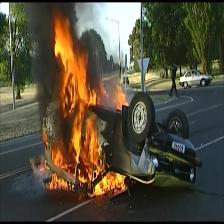fire: (40, 14, 127, 197), (116, 85, 129, 111)
